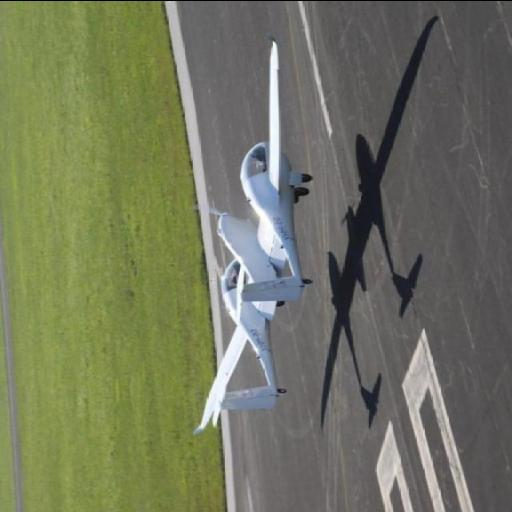uav: (189, 34, 315, 436)
